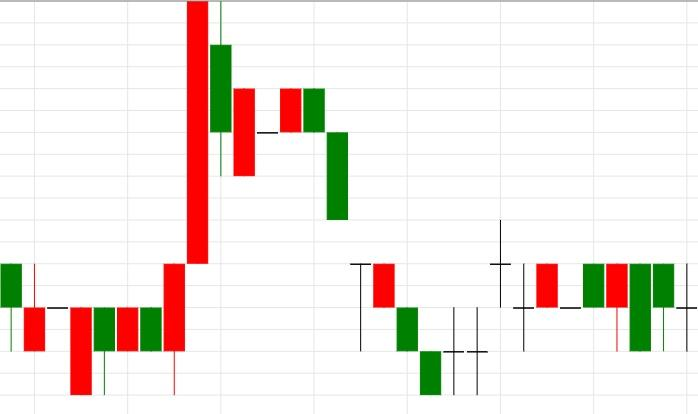bullish_engulfing_rise: (0, 263, 186, 396)
morning_star_rise: (490, 220, 605, 352)
